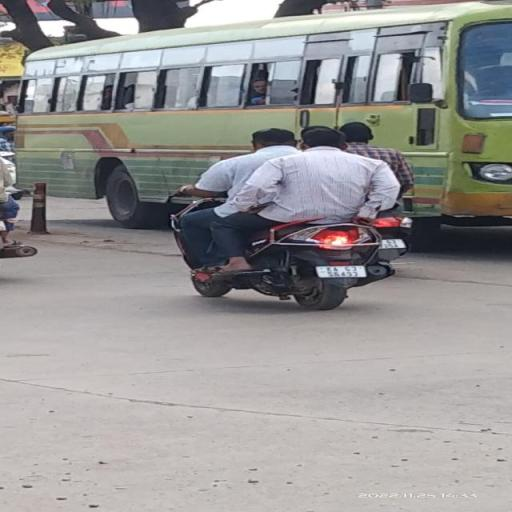bike: (166, 124, 416, 310)
numberplate: (316, 264, 367, 278)
withouthelmet: (302, 126, 341, 146), (254, 129, 294, 148)
